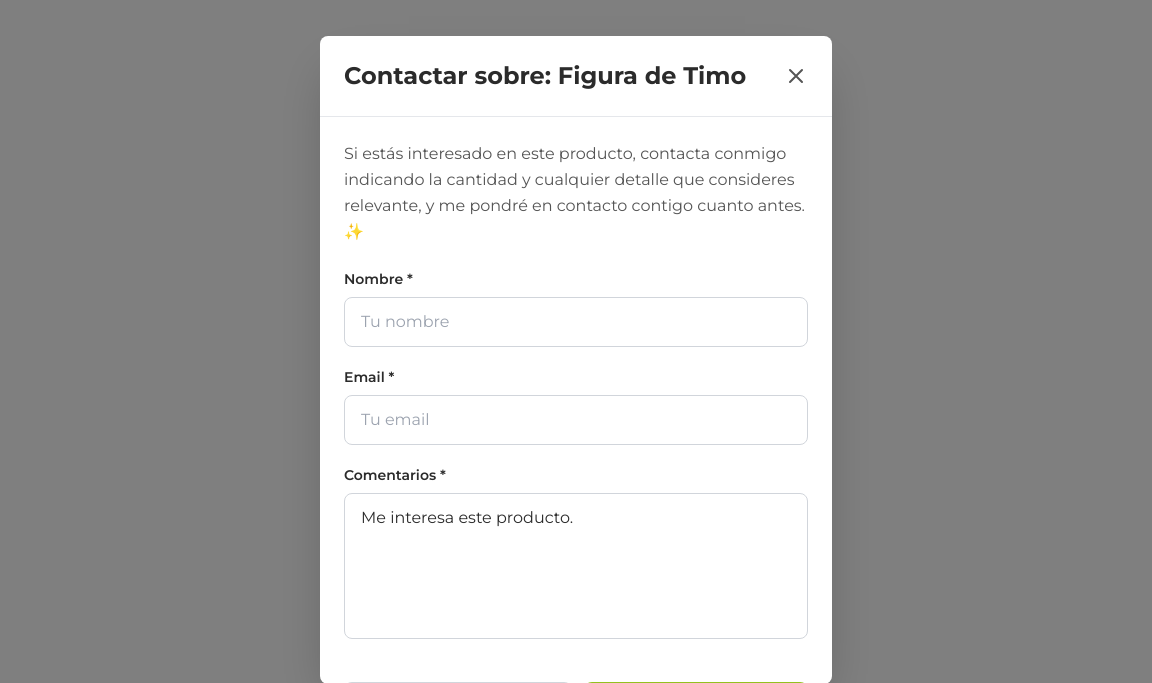
Scenario: ContactModal › Validation › should show error when email is empty
In the field labelled "Nombre *": (576, 322) [344,297,808,347], type "Juan"
(page scrolled)
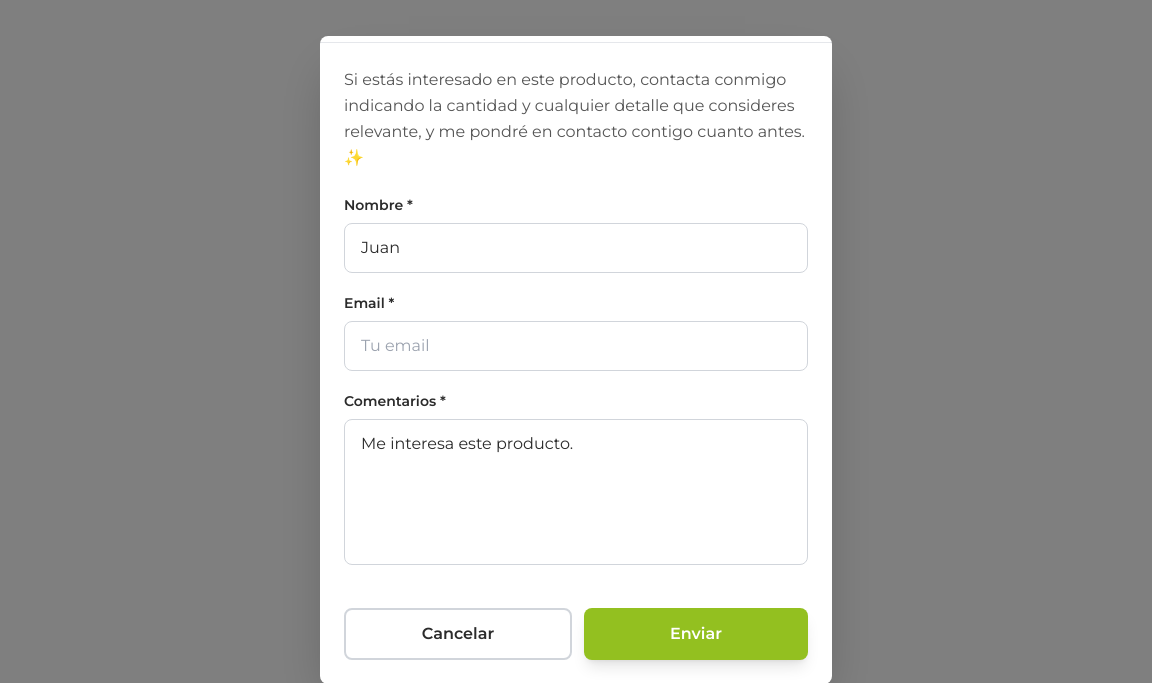
Click the button "Enviar": (696, 634) [584,608,808,660]
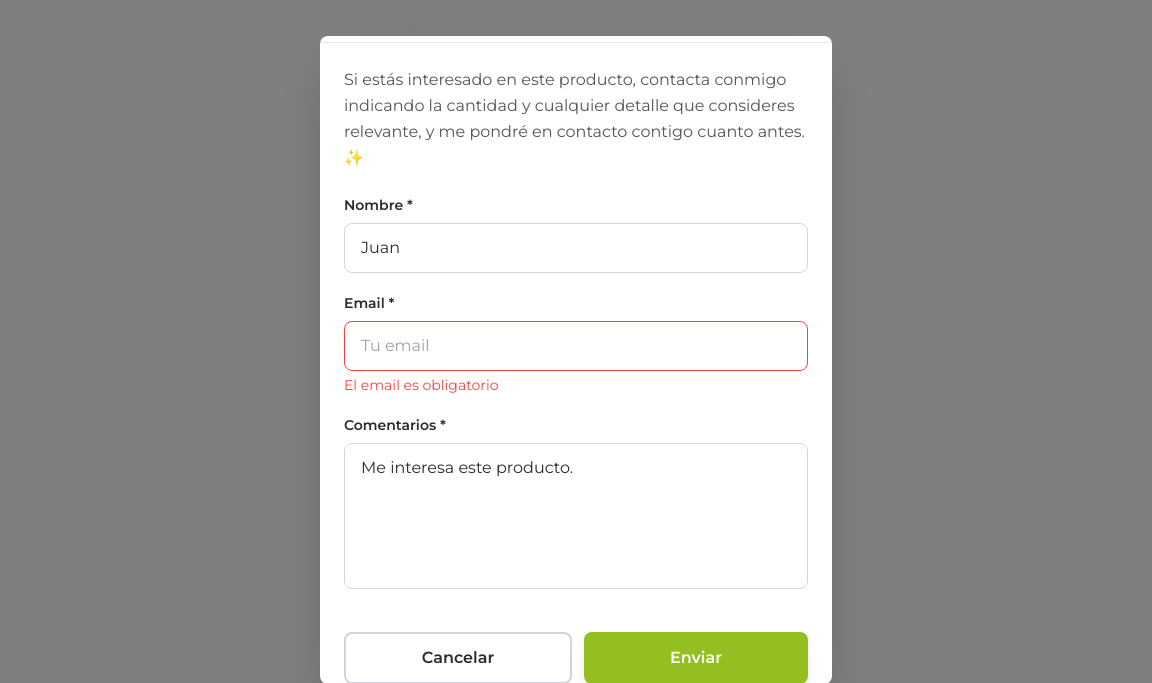
Expected: the text "El email es obligatorio" is shown, [344,376,498,394]
